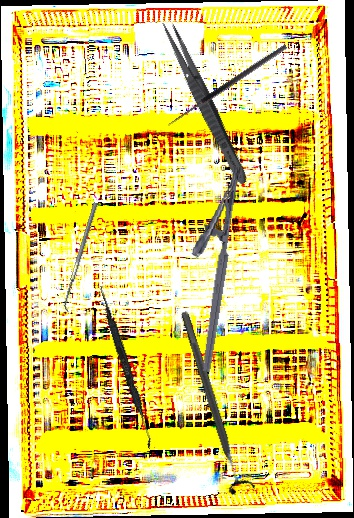Dressing Forceps: (156, 17, 253, 188)
Fixation Ring: (170, 307, 257, 498)
Hook Surgical: (166, 43, 292, 134)
Needle Holder: (173, 161, 244, 373)
Spatula Surgical: (93, 285, 159, 449), (60, 202, 103, 313)
